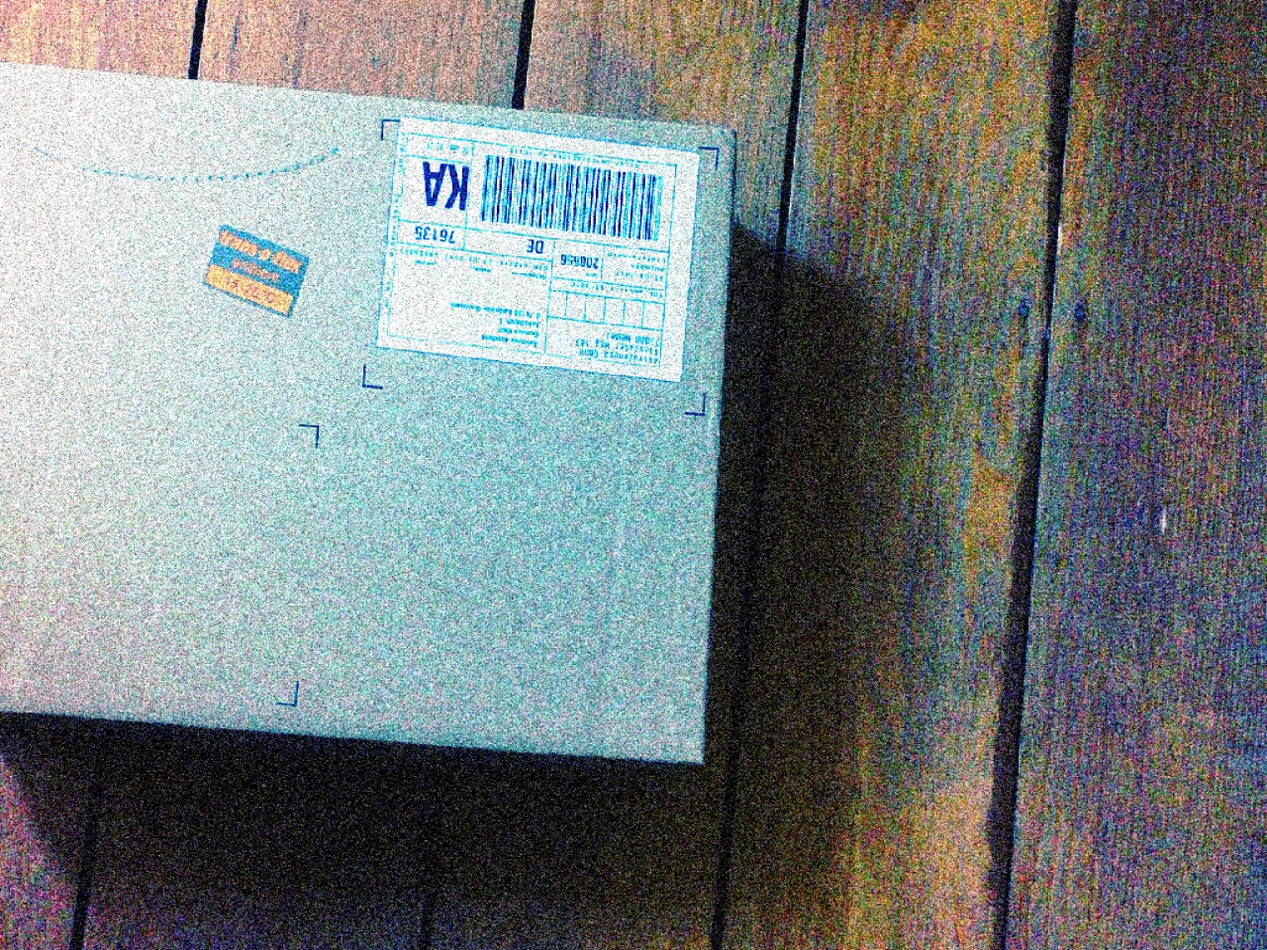good-parcel: (0, 49, 741, 792)
